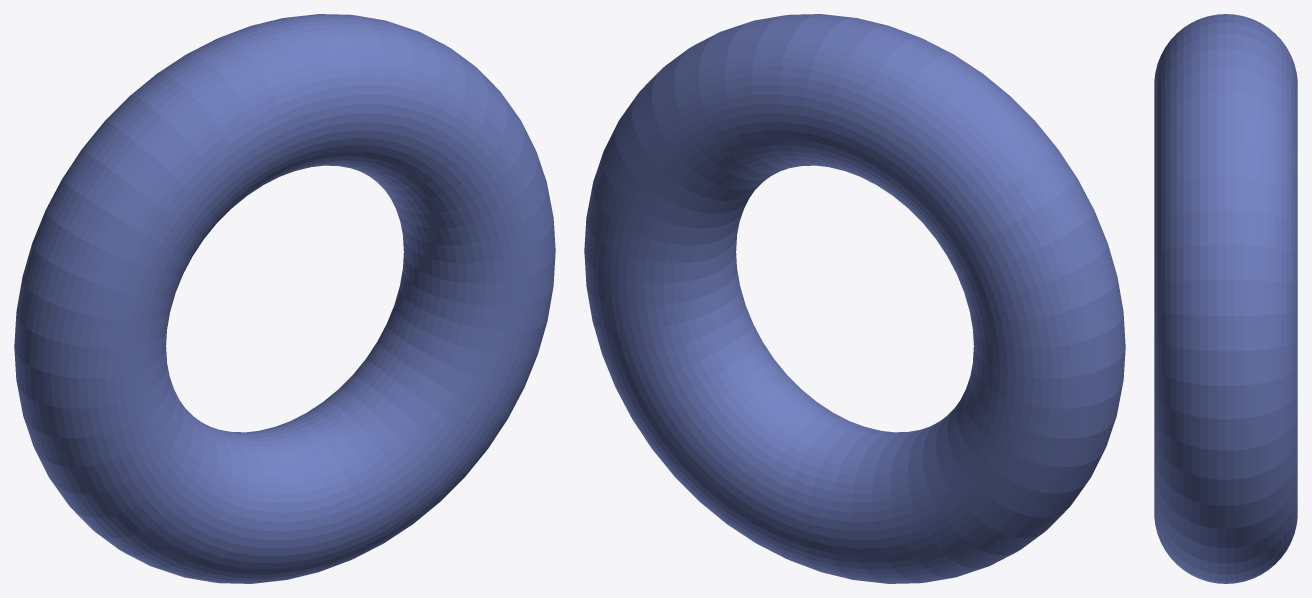
3 renders of one model, left to right at view 1: azimuth 30°, elevation 25°; view 2: azimuth 150°, elevation 25°; view 3: azimuth 270°, elevation 25°, orthographic. The views are drawn at different scales.
Parts seen in each view (by area): view 1: world; view 2: world; view 3: world.
Boxes of the visible parts, left/top/right/bottom form: world: left=14, top=14, right=555, bottom=583; world: left=584, top=14, right=1125, bottom=583; world: left=1154, top=14, right=1297, bottom=583.
Size of the model in its own units: 14.27 by 14.24 by 3.59.
